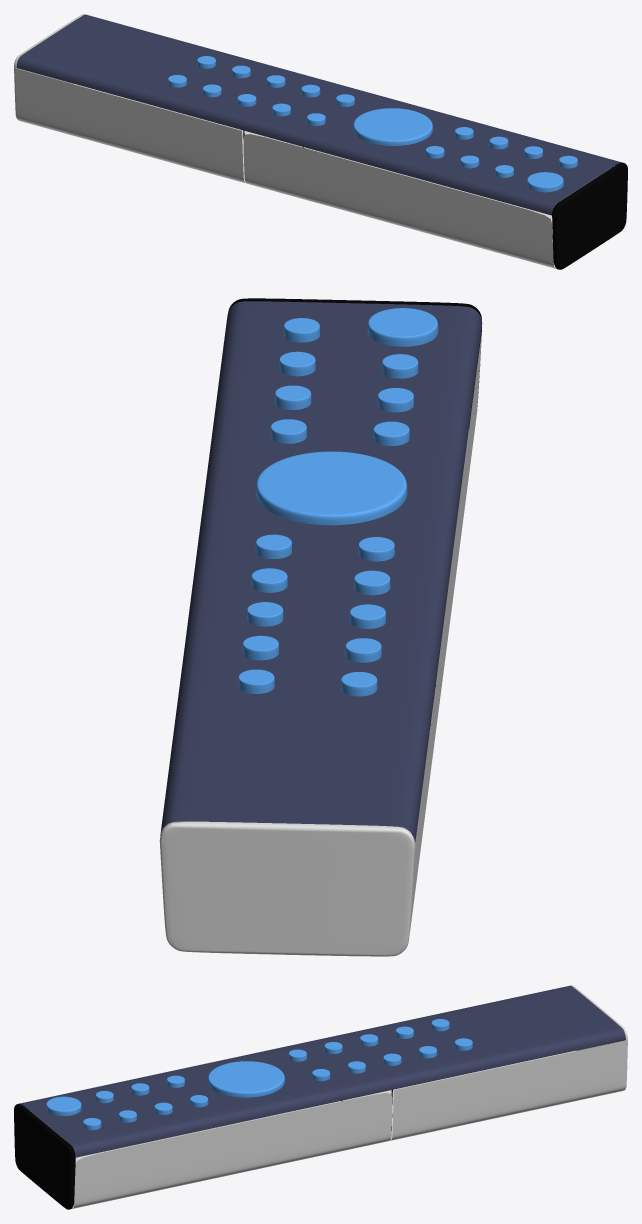
File: Chambre_enfant_telecommande.fbx
The picture shows the model from 3 angles, top to bottom: view 1: azimuth 30°, elevation 25°; view 2: azimuth 150°, elevation 25°; view 3: azimuth 270°, elevation 25°; orthographic projection. The views are drawn at different scales.
Visible parts, largest first — view 1: telecommande; view 2: telecommande; view 3: telecommande.
Boxes of the visible parts, <box> form: telecommande: <box>14,14,627,269</box>; telecommande: <box>159,298,482,956</box>; telecommande: <box>14,985,627,1209</box>.
Bounding box in the file's own units: 30.19 × 5.87 × 46.93.
